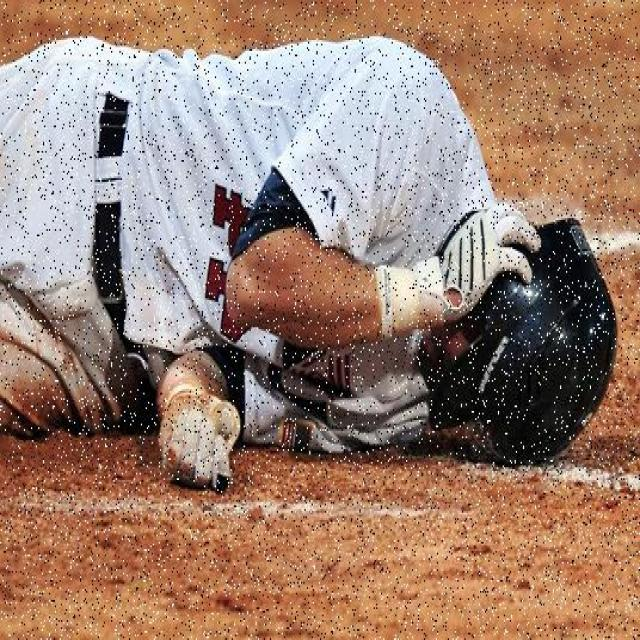fall: (2, 27, 606, 478)
